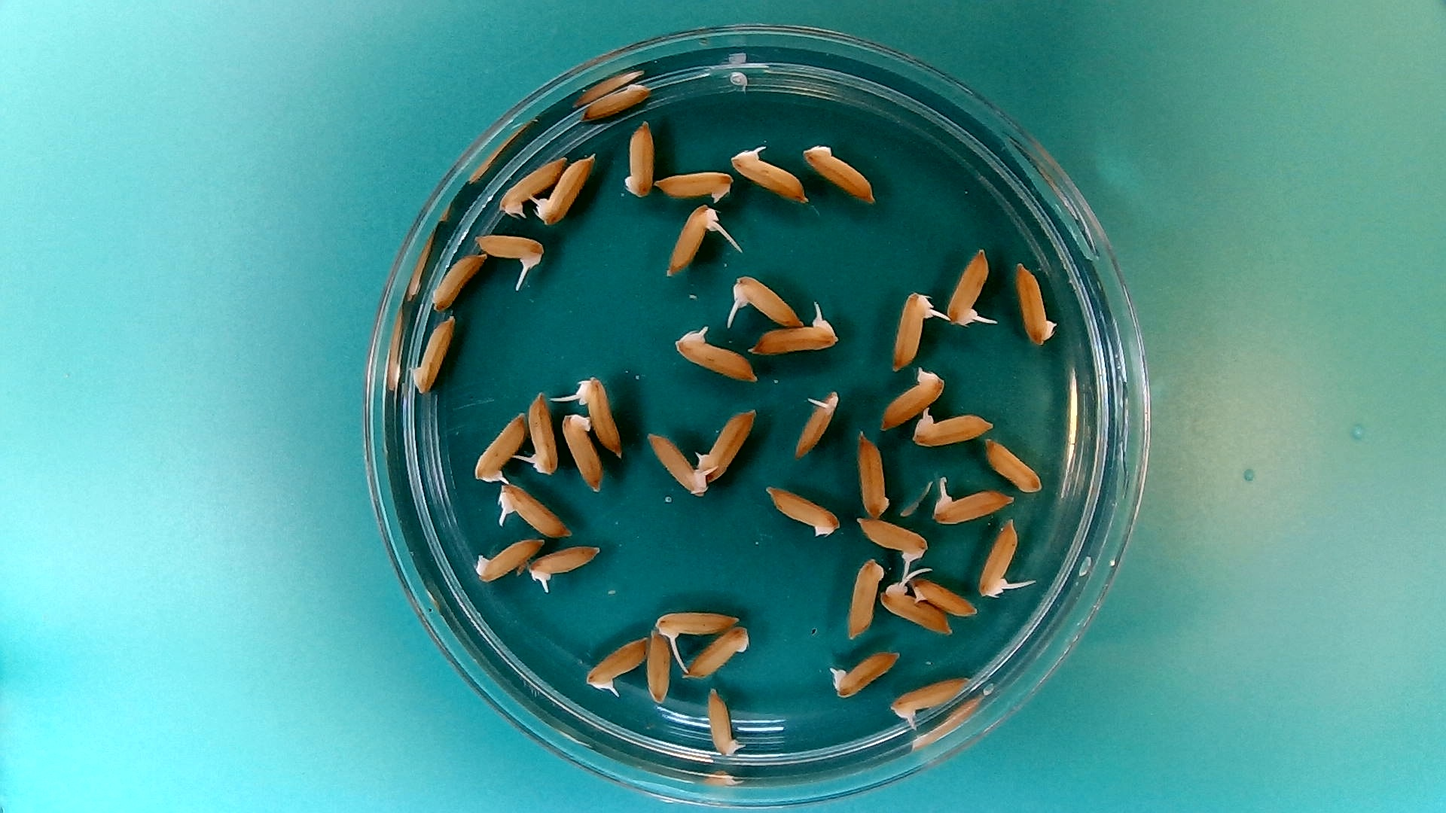no: (802, 144, 881, 207), (760, 481, 842, 540), (875, 367, 945, 430), (557, 407, 606, 494), (1013, 257, 1059, 347), (409, 313, 458, 394), (428, 246, 488, 312), (853, 425, 894, 519), (681, 625, 752, 679), (843, 555, 886, 641), (471, 534, 548, 582), (983, 435, 1044, 494), (907, 574, 980, 618), (584, 84, 659, 123), (654, 166, 734, 202), (622, 119, 657, 200), (645, 626, 673, 704)
yes: (496, 151, 566, 218), (471, 407, 529, 486), (645, 428, 710, 498), (674, 333, 761, 385), (493, 482, 572, 539), (732, 148, 810, 204), (697, 411, 760, 480), (929, 477, 1014, 525), (585, 632, 651, 693), (734, 274, 804, 329), (886, 294, 934, 373), (909, 406, 997, 449), (574, 376, 620, 458), (521, 388, 561, 477), (828, 650, 900, 699), (890, 675, 974, 717), (878, 587, 948, 637), (751, 314, 834, 356), (977, 519, 1020, 600), (536, 160, 590, 224), (853, 514, 929, 559), (947, 248, 988, 328), (666, 206, 714, 273), (795, 388, 837, 464), (525, 540, 599, 580), (471, 228, 544, 267), (706, 684, 745, 757), (652, 611, 743, 641)
